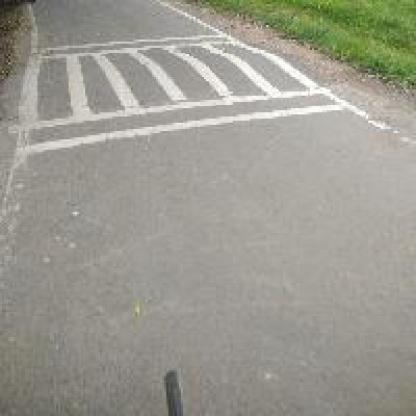Speed Bump: (27, 37, 329, 156)
